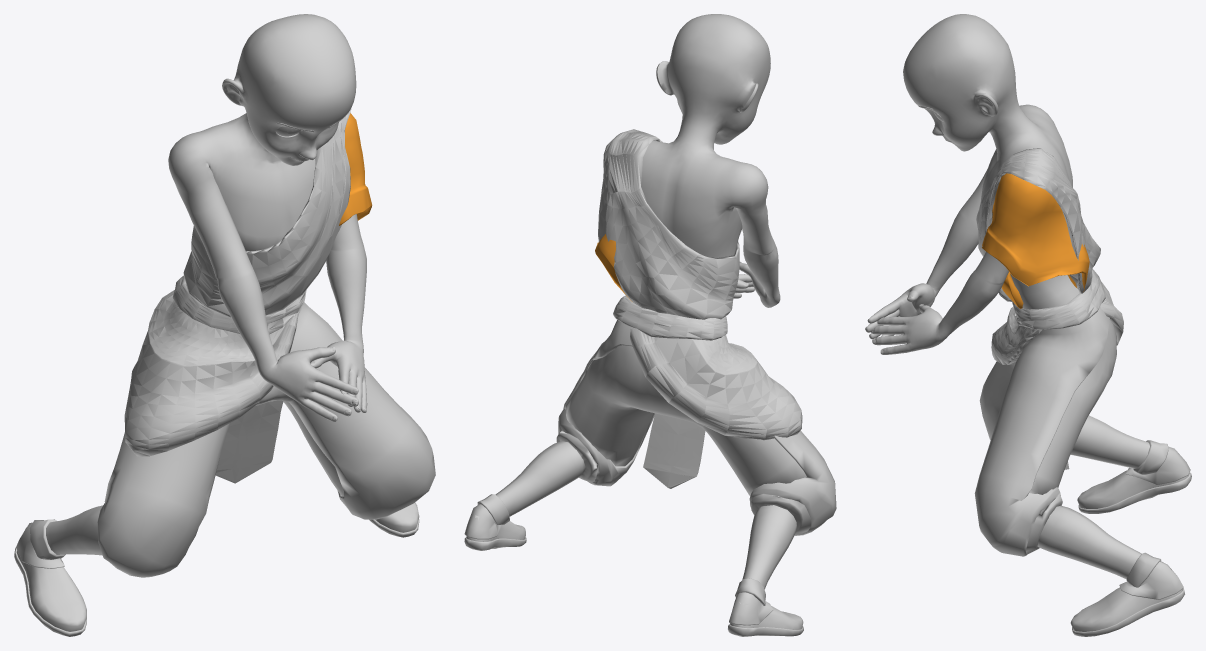
The model's file is newANGP.obj.
3 renders of one model, left to right at view 1: azimuth 30°, elevation 25°; view 2: azimuth 150°, elevation 25°; view 3: azimuth 270°, elevation 25°, orthographic. The views are drawn at different scales.
Visible parts, largest first — view 1: amg.001; view 2: amg.001; view 3: amg.001.
Part boxes in pixels (x1,y1,x2,y2): amg.001: (14, 14, 435, 636); amg.001: (464, 14, 836, 636); amg.001: (865, 14, 1191, 636).
Bounding box in the file's own units: 17.95 × 28.69 × 15.28.
